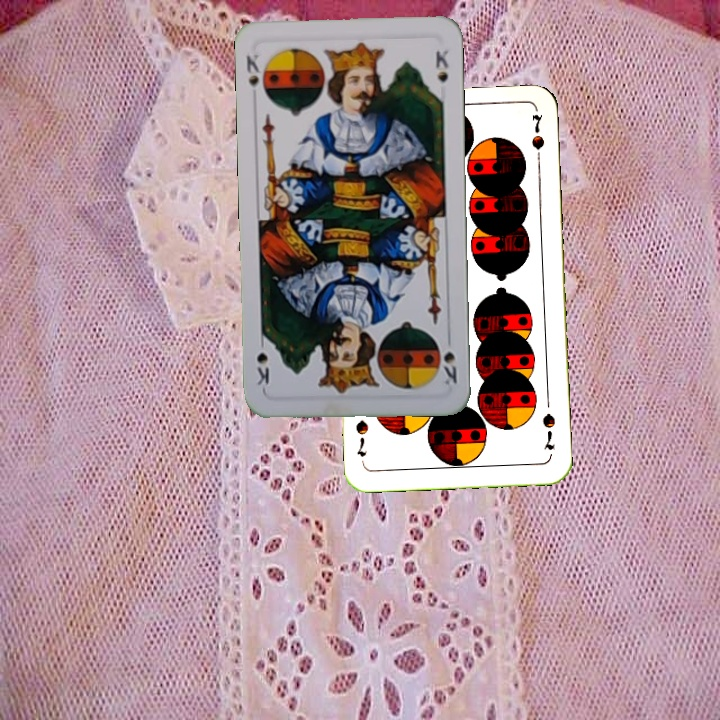S7: (538, 408, 558, 453)
SK: (242, 50, 263, 90), (439, 347, 459, 388)
